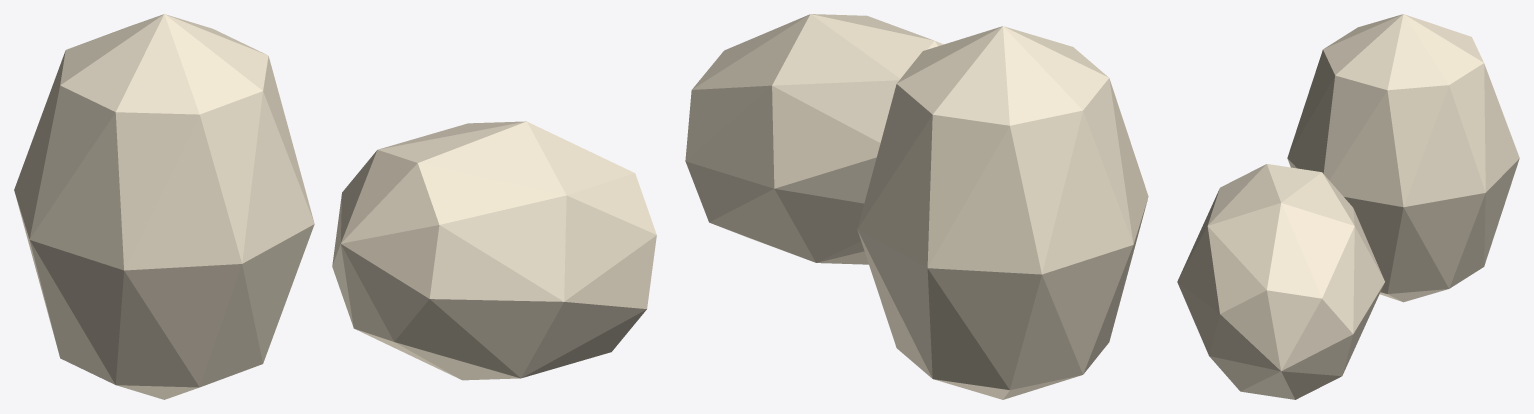
File: drop_egg.glb
The picture shows the model from 3 angles, left to right: view 1: azimuth 30°, elevation 25°; view 2: azimuth 150°, elevation 25°; view 3: azimuth 270°, elevation 25°; orthographic projection. The views are drawn at different scales.
Parts seen in each view (by area): view 1: drop_egg; view 2: drop_egg; view 3: drop_egg.
Boxes of the visible parts, left/top/right/bottom form: drop_egg: left=14, top=14, right=656, bottom=399; drop_egg: left=685, top=14, right=1148, bottom=399; drop_egg: left=1177, top=14, right=1519, bottom=399.
Bounding box in the file's own units: 0.1514 × 0.104 × 0.112.
